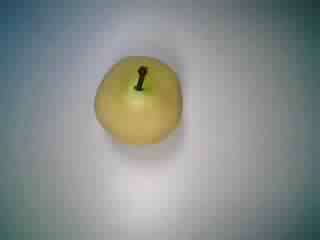pear: (85, 46, 189, 153)
